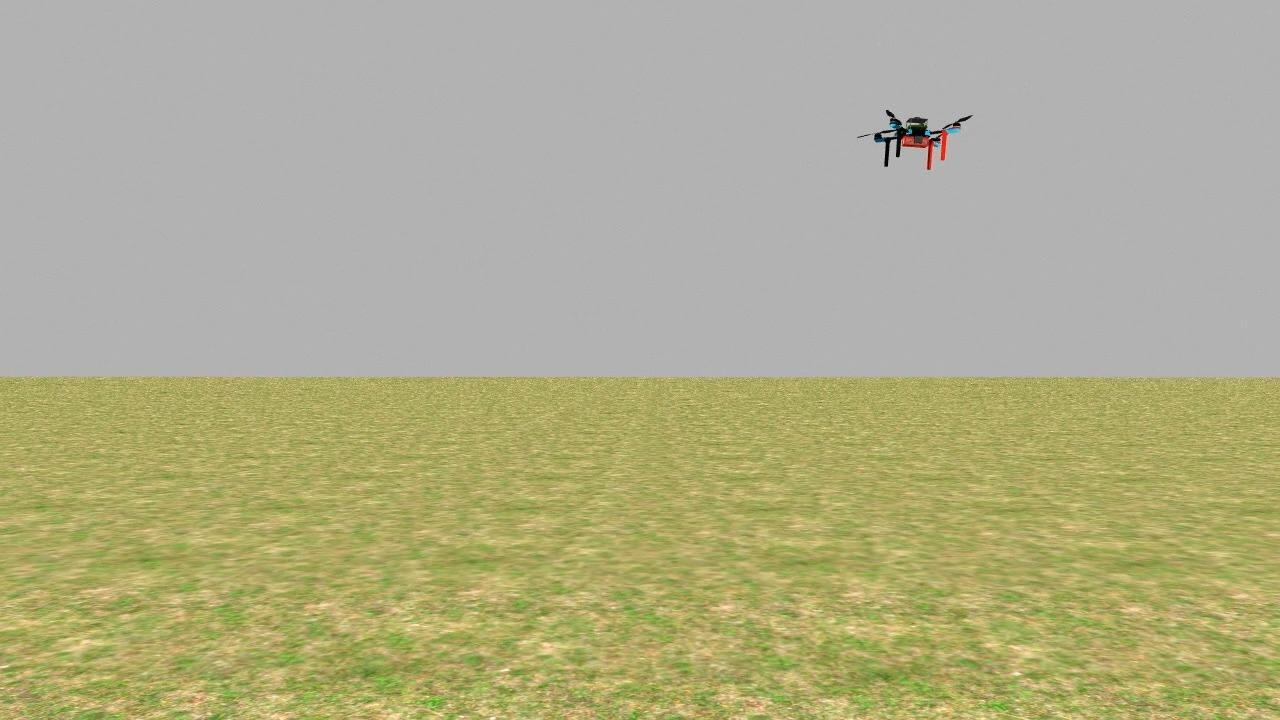UAV: (862, 109, 969, 178)
